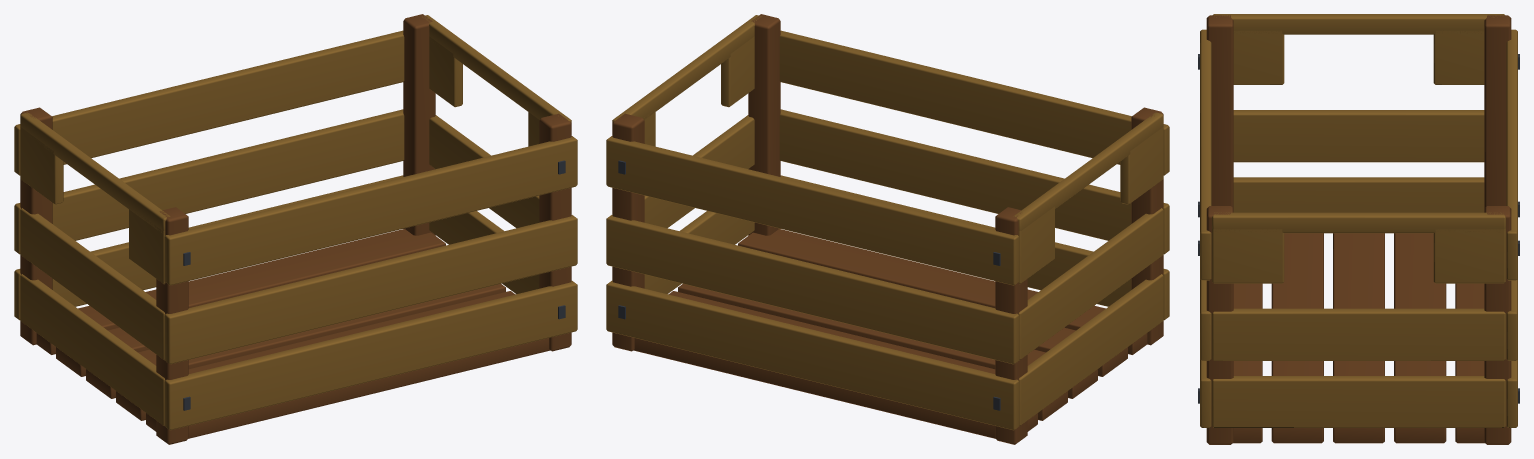
File: cagette-bois.glb
3 renders of one model, left to right at view 1: azimuth 30°, elevation 25°; view 2: azimuth 150°, elevation 25°; view 3: azimuth 270°, elevation 25°, orthographic.
Parts seen in each view (by area): view 1: cagette-bois; view 2: cagette-bois; view 3: cagette-bois.
Part boxes in pixels (left/top/right/bottom): cagette-bois: left=14, top=14, right=577, bottom=444; cagette-bois: left=606, top=14, right=1169, bottom=444; cagette-bois: left=1198, top=14, right=1519, bottom=444.
Size of the model in its own units: 0.5 by 0.264 by 0.334.
1 material, 1 textured.
